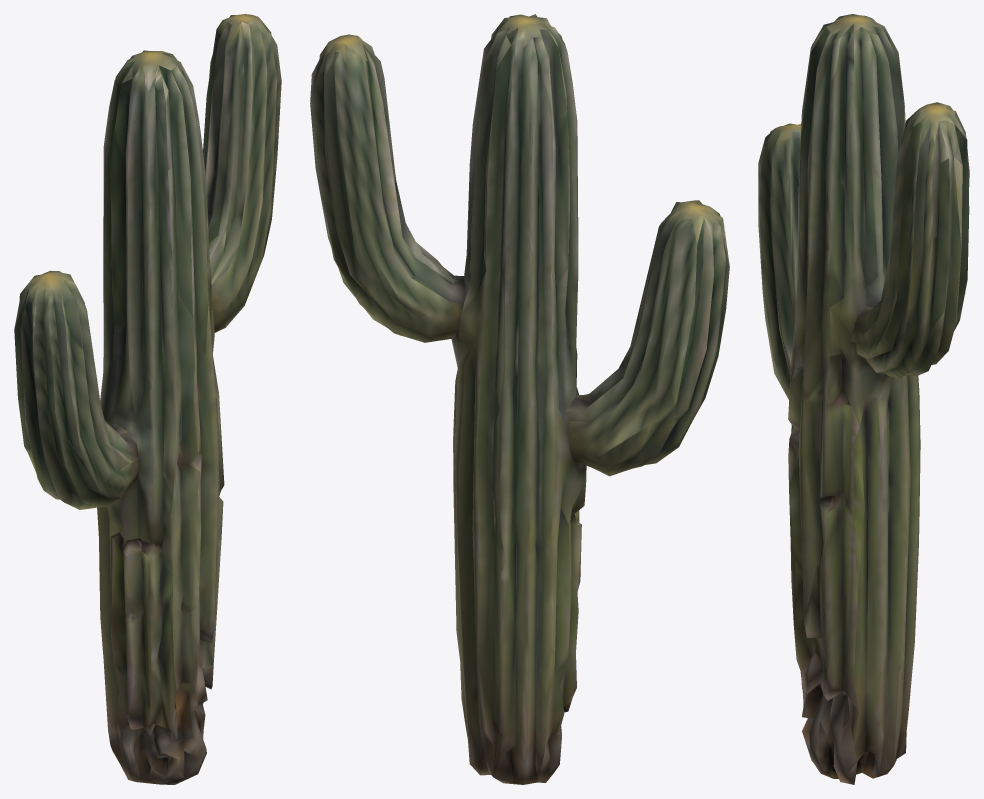
File: saguaro_mid.glb
The picture shows the model from 3 angles, left to right: view 1: azimuth 30°, elevation 25°; view 2: azimuth 150°, elevation 25°; view 3: azimuth 270°, elevation 25°; orthographic projection. The views are drawn at different scales.
Parts seen in each view (by area): view 1: LO.001; view 2: LO.001; view 3: LO.001.
Boxes of the visible parts, x1,y1,x2,y2 form: LO.001: (14,14,281,784); LO.001: (310,14,729,784); LO.001: (758,14,969,784).
Bounding box in the file's own units: 2.34 × 4.99 × 1.28.
1 material, 1 textured.
